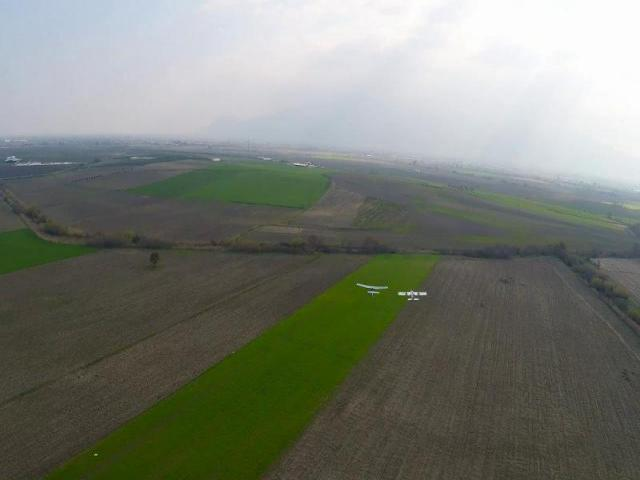hedef: (355, 278, 391, 300), (395, 284, 432, 304)
